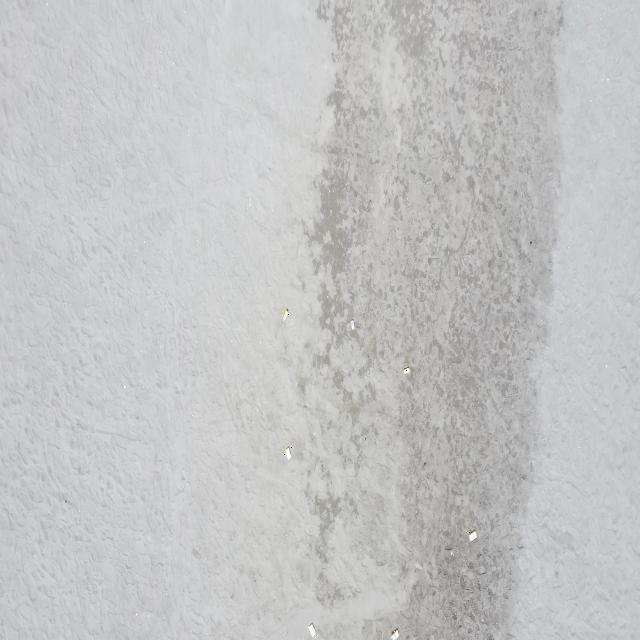Garbage: (390, 627, 399, 639), (283, 447, 291, 459), (308, 623, 315, 636), (281, 307, 288, 320), (468, 529, 476, 540), (444, 547, 452, 555), (351, 319, 355, 329), (404, 366, 409, 373)
